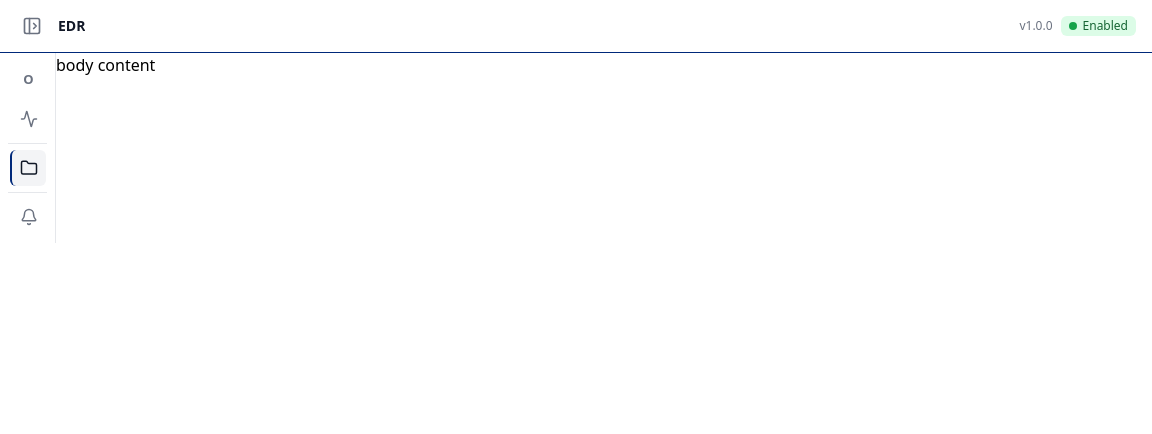
Scenario: AppShell sidebar sub-groups › expands the rail and opens the clicked sub-group from its collapsed tile
Step 1. Click the button named "Expand Branding" → (28, 217), box x1=10 y1=199 x2=46 y2=235
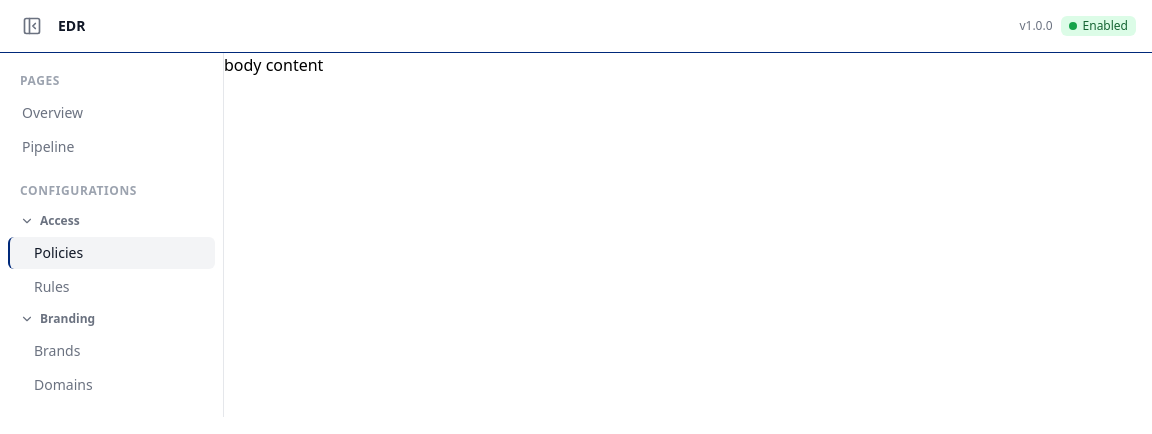
Expected: the button named "Collapse navigation" is shown, x1=16 y1=10 x2=48 y2=42
